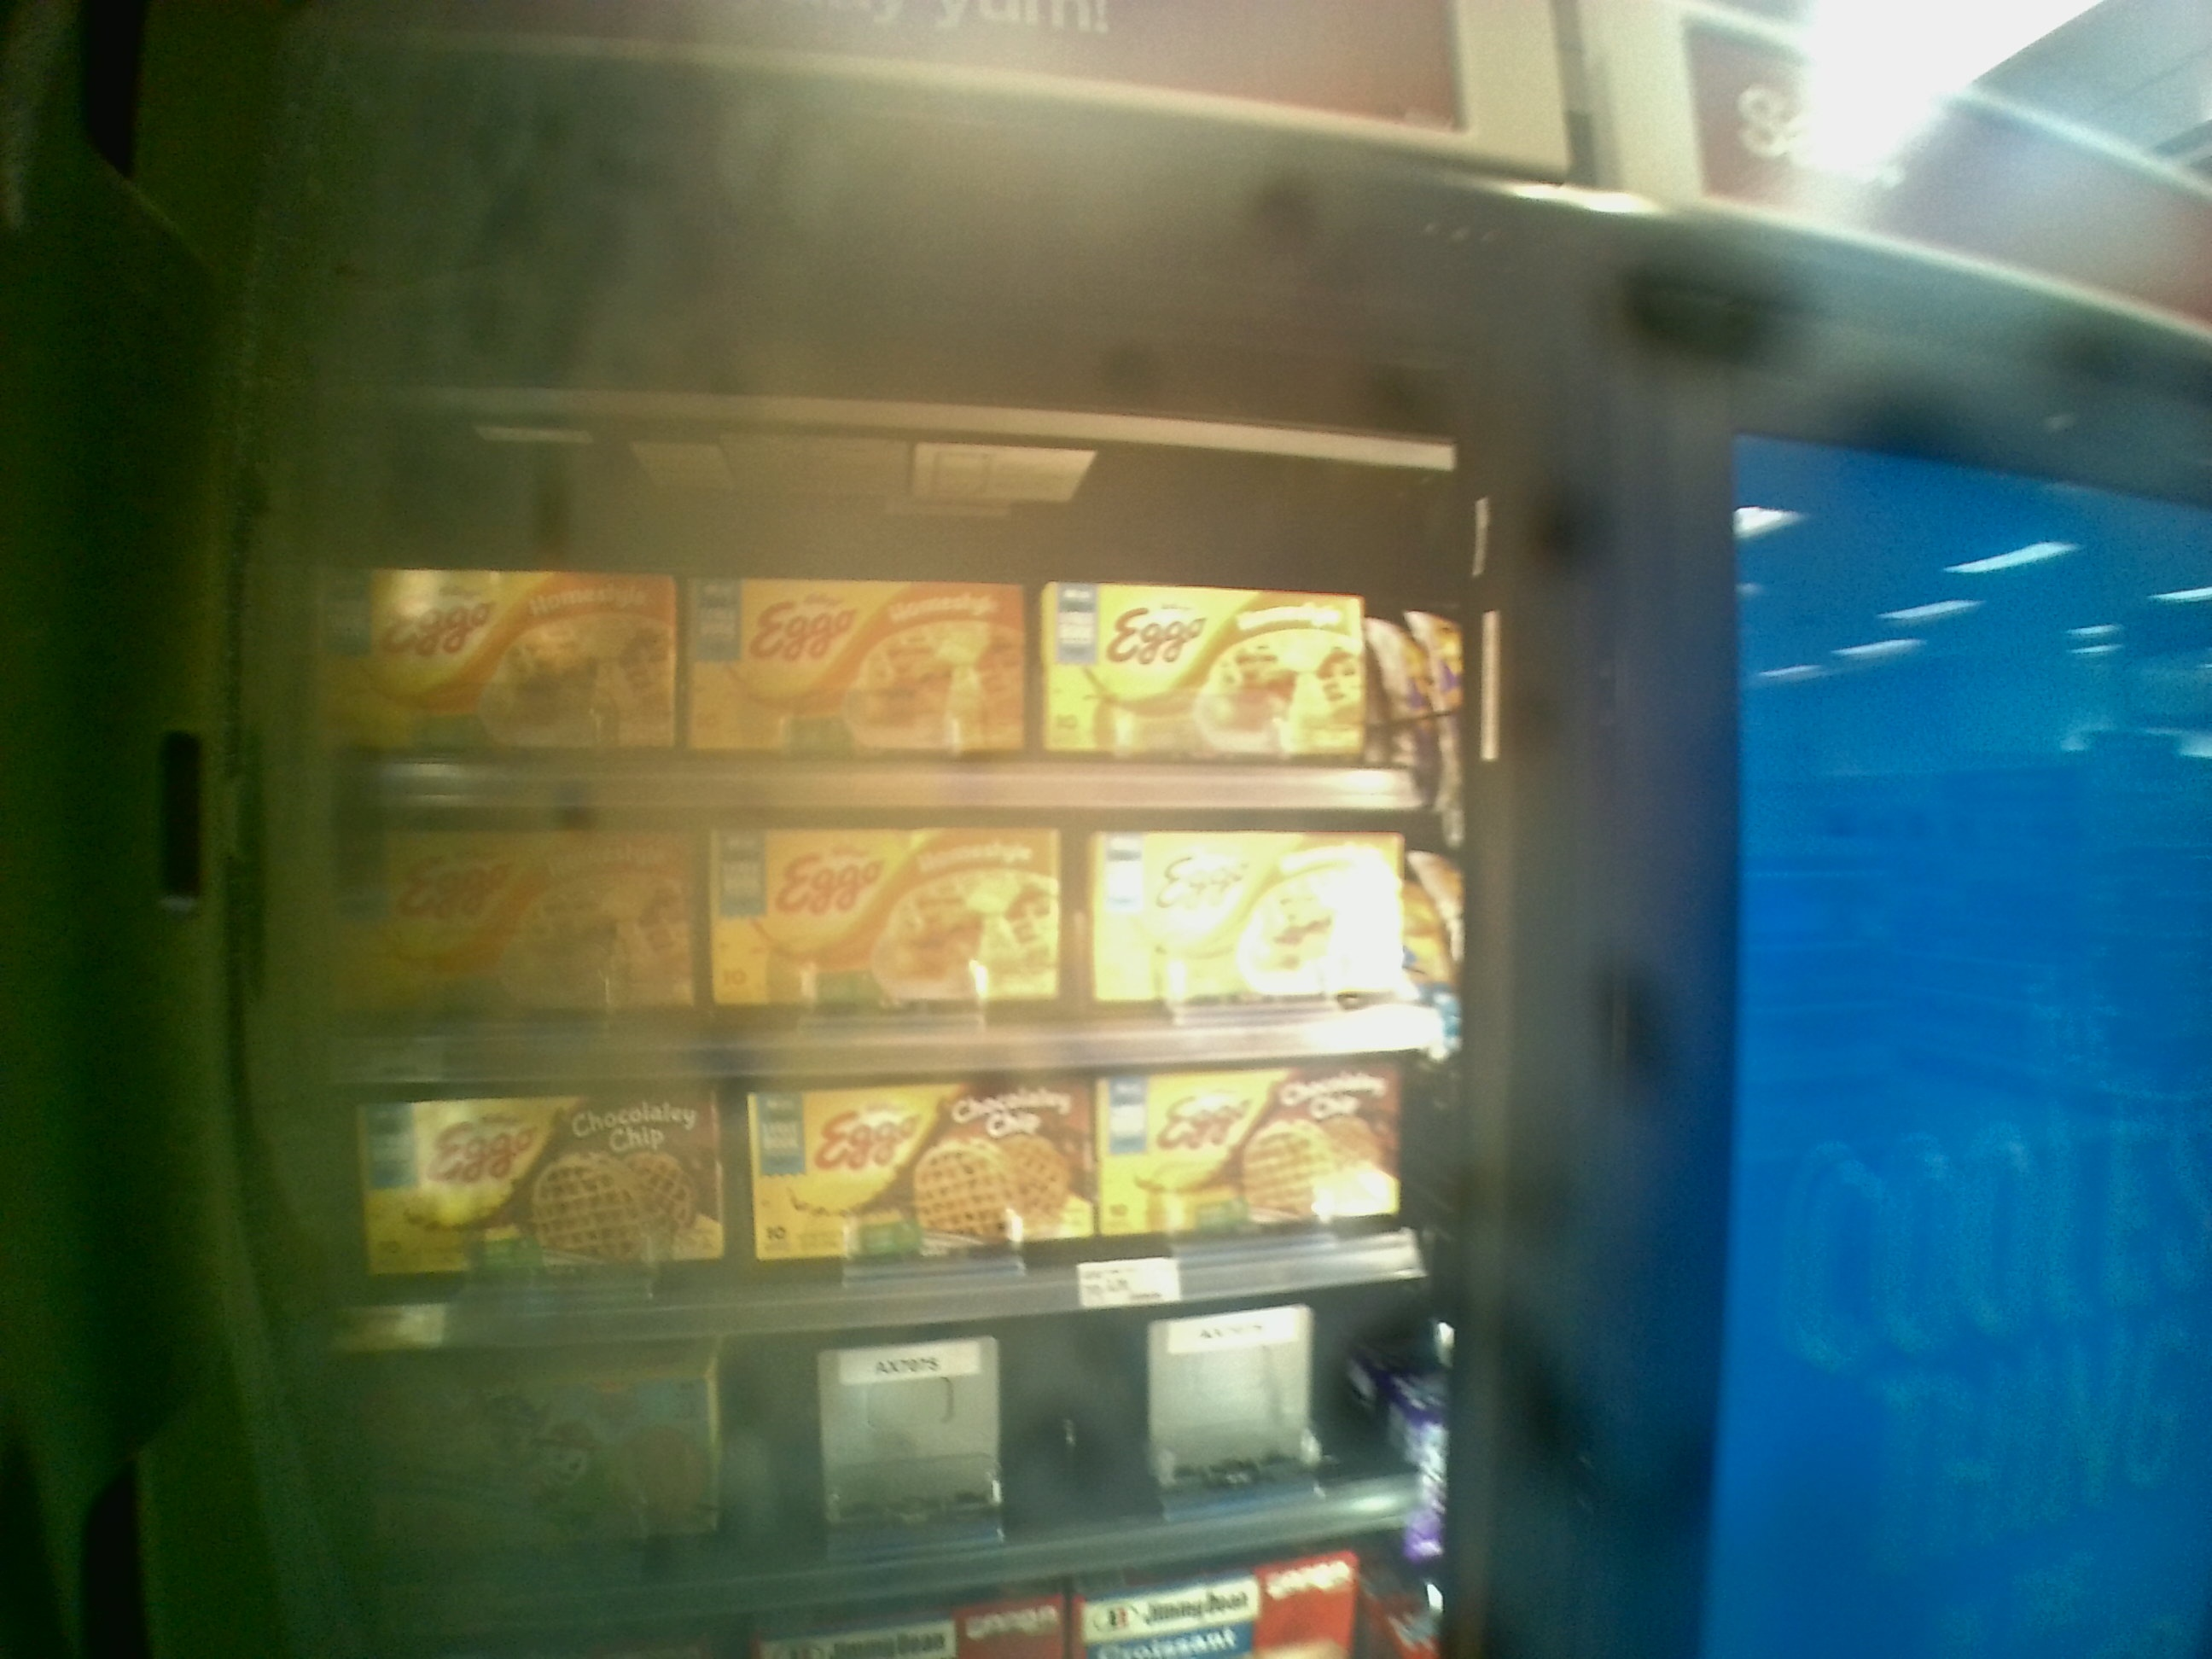frozen-food-shelf: (359, 798, 1456, 1086)
